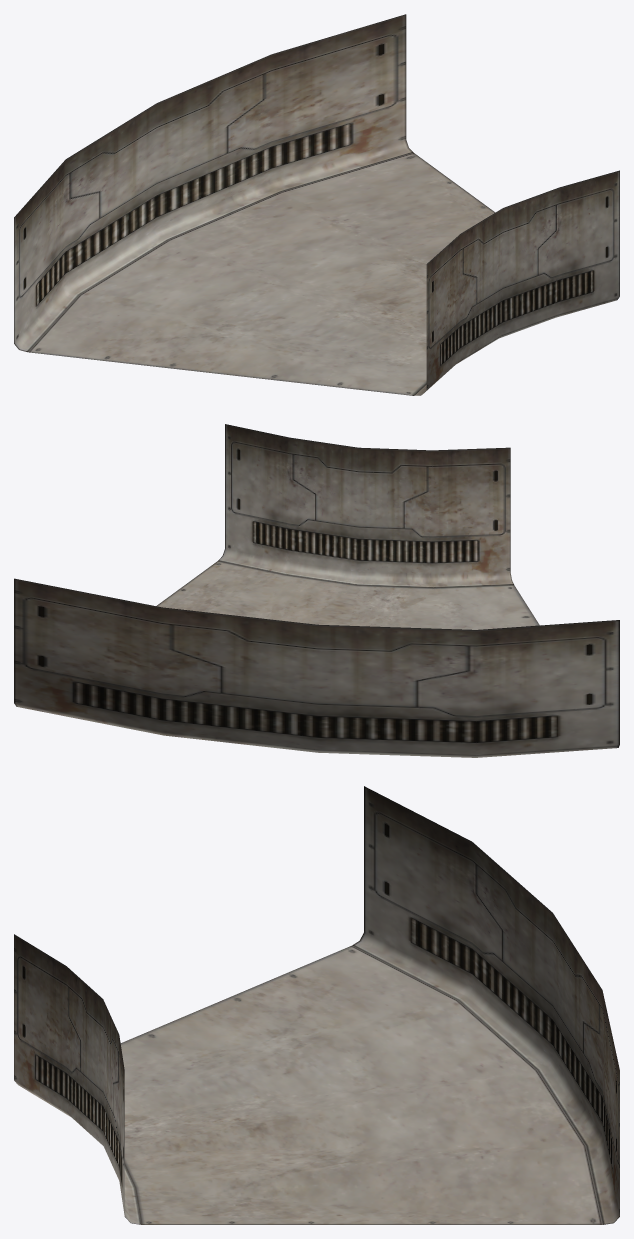
The model's file is lab_ceiling_box_turn_45_right.dae.
3 renders of one model, top to bottom at view 1: azimuth 30°, elevation 25°; view 2: azimuth 150°, elevation 25°; view 3: azimuth 270°, elevation 25°, orthographic. The views are drawn at different scales.
Visible parts, largest first — view 1: lab_ceiling_box_turn_45_right; view 2: lab_ceiling_box_turn_45_right; view 3: lab_ceiling_box_turn_45_right.
Boxes of the visible parts, <box> form: lab_ceiling_box_turn_45_right: <box>14,14,619,395</box>; lab_ceiling_box_turn_45_right: <box>14,424,619,757</box>; lab_ceiling_box_turn_45_right: <box>14,786,619,1224</box>.
Bounding box in the file's own units: 2.96 × 0.75 × 2.67.
